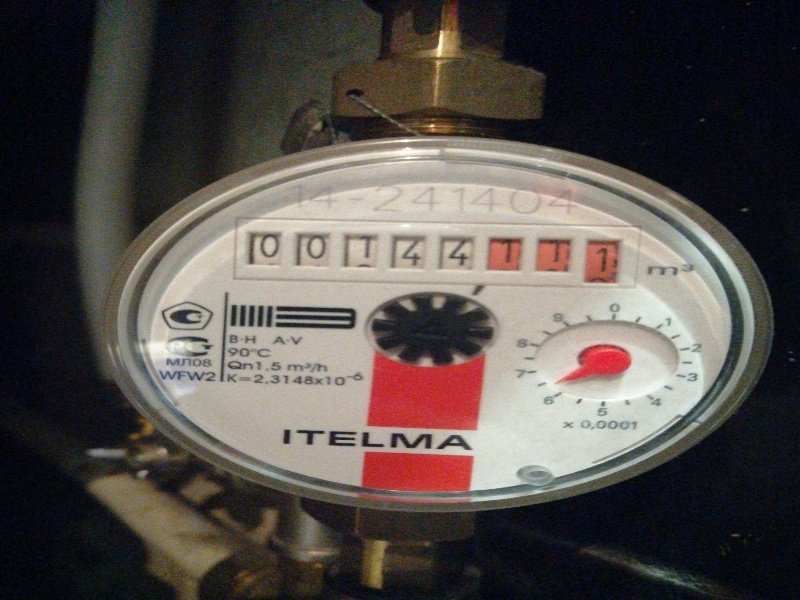meter: (244, 224, 625, 285)
